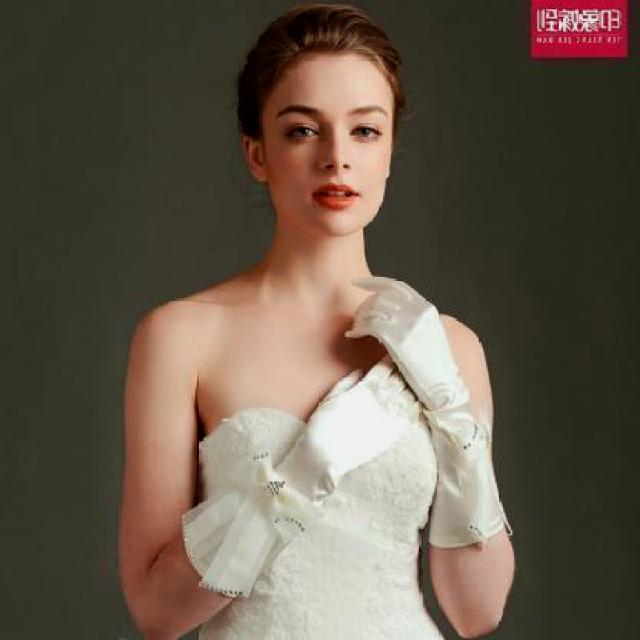face_nomask: (271, 94, 397, 237)
hand_glove: (294, 354, 429, 489), (338, 274, 469, 398)
head_nohelmet: (240, 6, 409, 89)
person: (87, 9, 516, 640)
